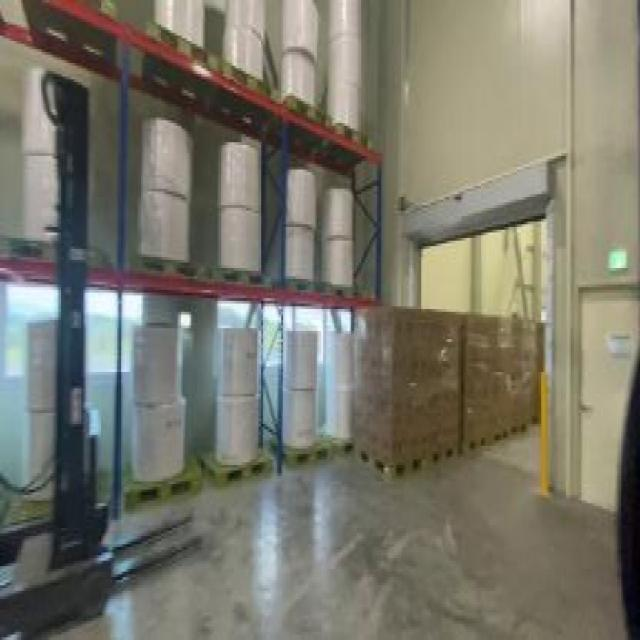box: (354, 301, 551, 462)
robot: (2, 60, 206, 629)
white_roll: (0, 309, 111, 525), (6, 57, 106, 266), (125, 320, 203, 492), (202, 326, 276, 484), (136, 115, 196, 271), (271, 326, 331, 468), (211, 142, 269, 287), (274, 3, 328, 126), (212, 3, 272, 104), (274, 167, 320, 295), (324, 328, 364, 457), (328, 0, 364, 142), (320, 191, 366, 301), (151, 3, 215, 68)
